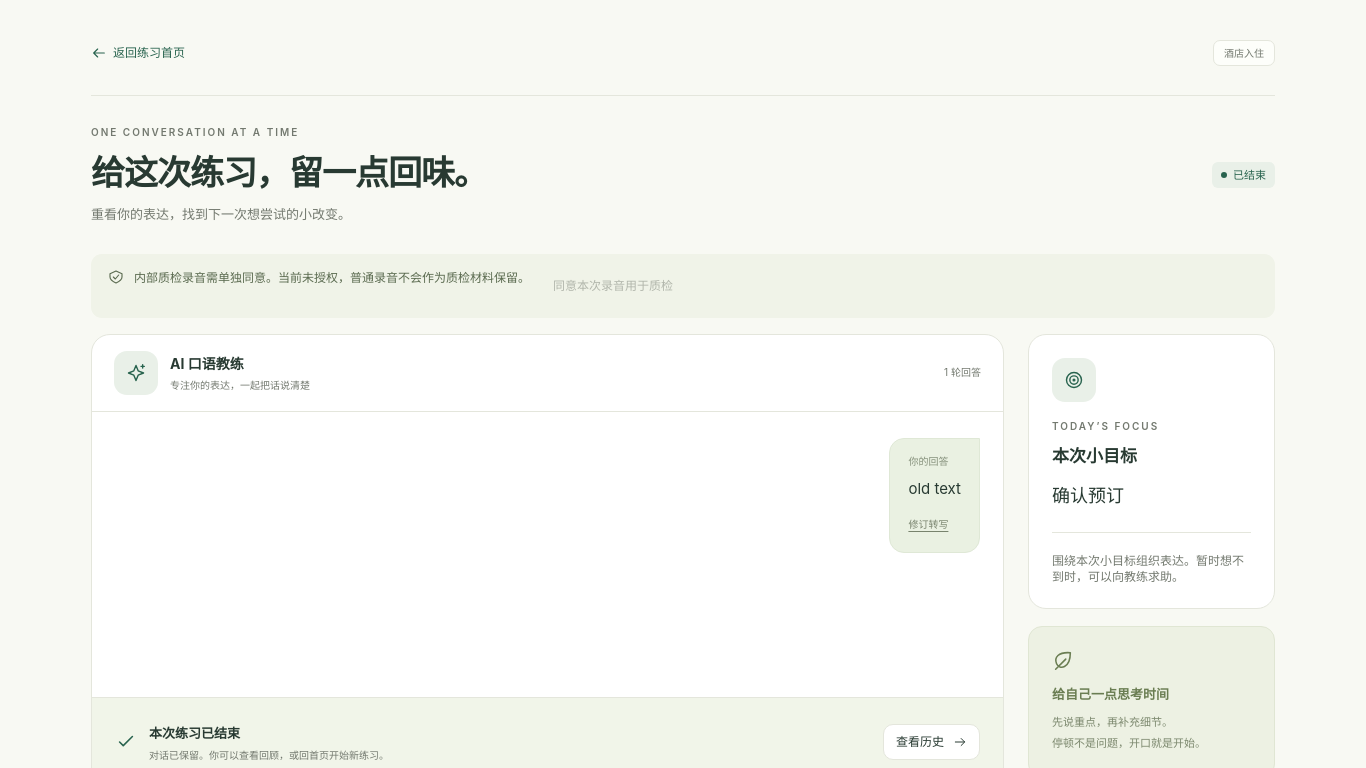
Test: refreshes review and dependent actions after revising a turn
Click the button "修订转写".
click(928, 524)  # box [908,510,948,538]
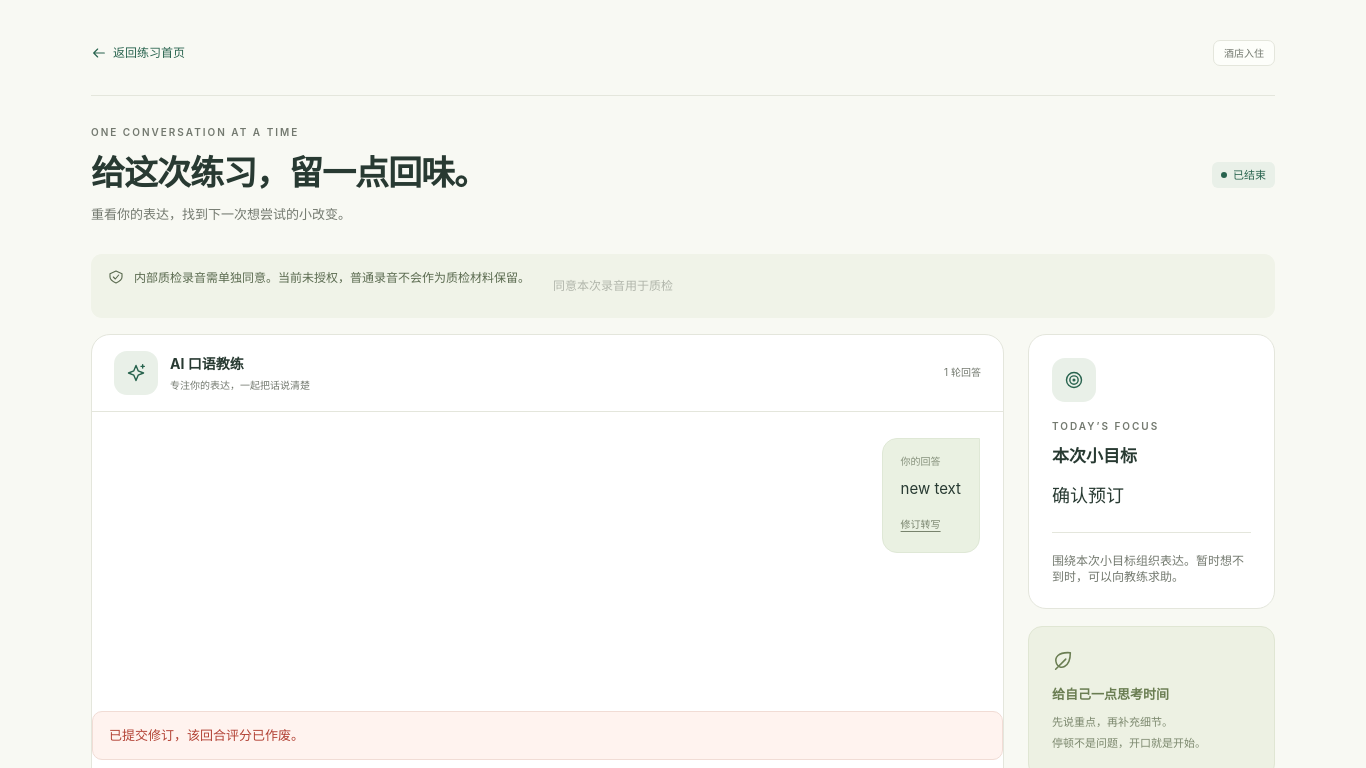
Expected: the text "new text" is shown, [901,475,961,503]
